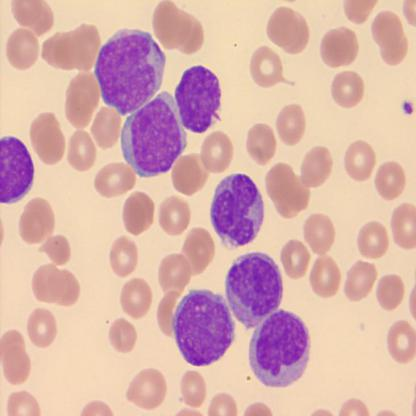Blast: (93, 24, 167, 118), (119, 88, 188, 179), (247, 307, 313, 389), (172, 286, 236, 369), (223, 251, 284, 329), (208, 170, 266, 252), (172, 62, 226, 135)
